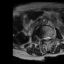CCS_normal: (46, 35, 48, 43)
LFS_normal: (50, 34, 52, 41)
LLS_normal: (48, 34, 50, 42)
RFS_stenosis: (41, 35, 43, 41)
RLS_stenosis: (43, 35, 46, 42)
